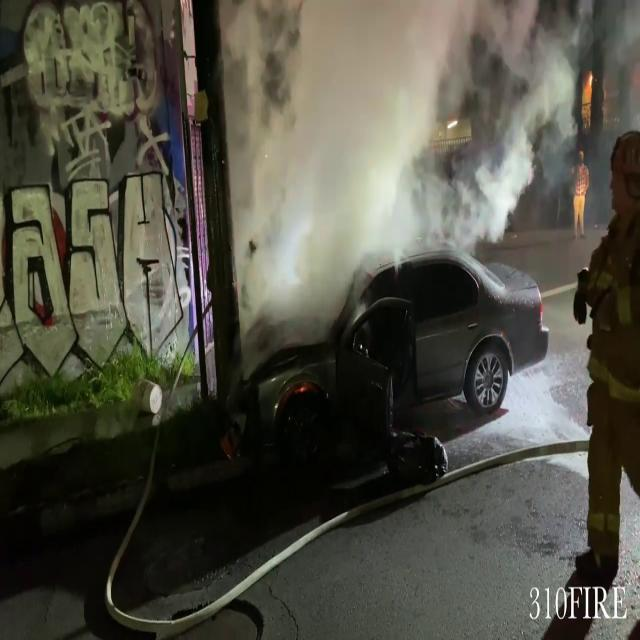Smoke: (236, 0, 636, 288)
